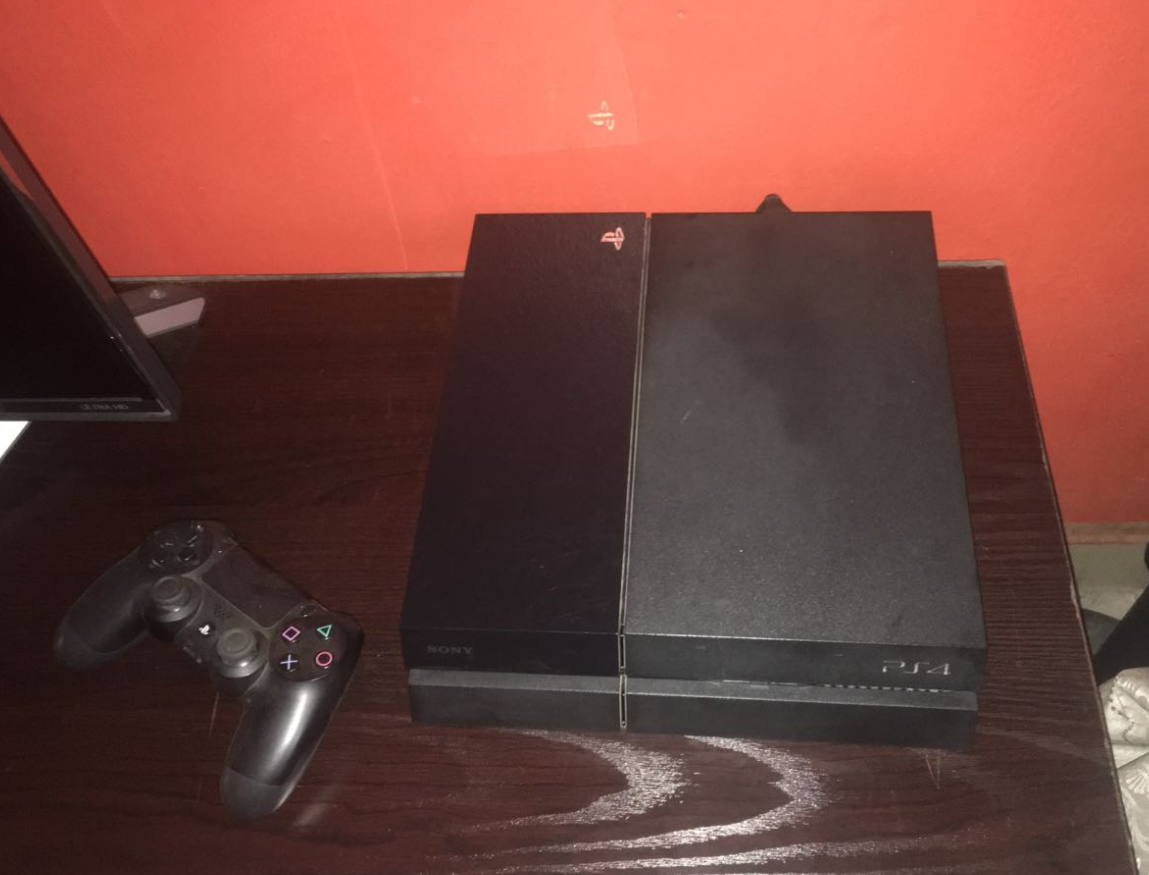gamingconsole: (58, 512, 365, 816)
